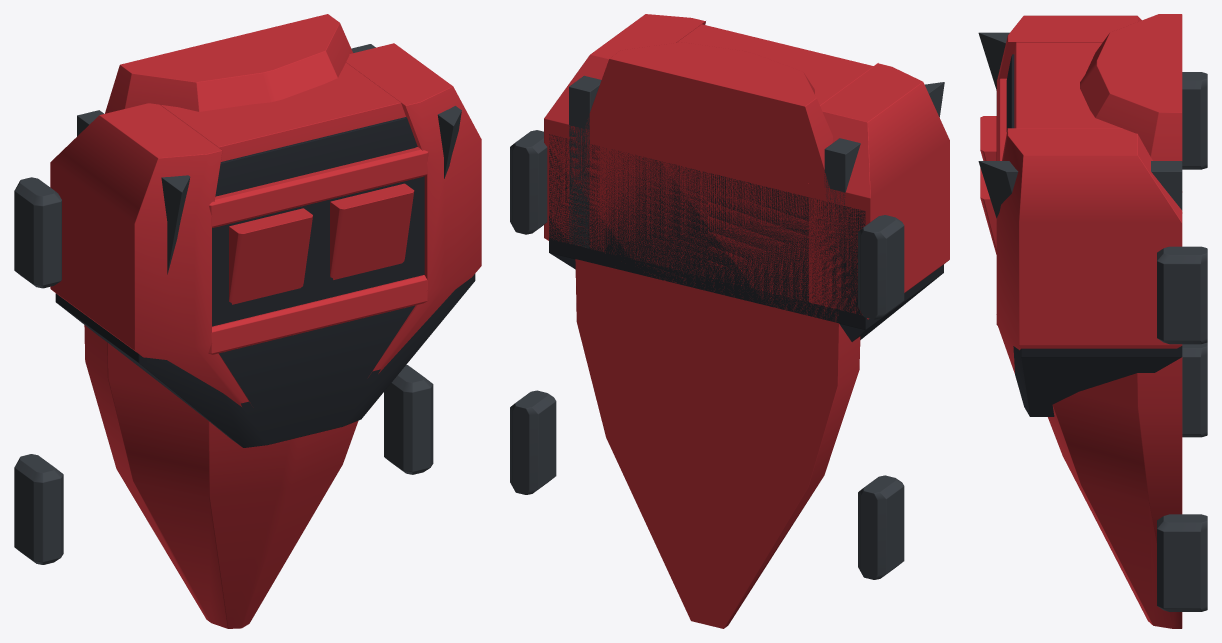
Rendered from ThighFront_Set05_Afterburn.fbx.
The picture shows the model from 3 angles, left to right: view 1: azimuth 30°, elevation 25°; view 2: azimuth 150°, elevation 25°; view 3: azimuth 270°, elevation 25°; orthographic projection. The views are drawn at different scales.
Parts seen in each view (by area): view 1: ThighFront_Set05_Afterburn; view 2: ThighFront_Set05_Afterburn; view 3: ThighFront_Set05_Afterburn.
Boxes of the visible parts, box(x1,y1,x2,y2) form: ThighFront_Set05_Afterburn: box(14, 14, 481, 628); ThighFront_Set05_Afterburn: box(510, 14, 949, 628); ThighFront_Set05_Afterburn: box(978, 14, 1207, 628).
Bounding box in the file's own units: 0.53 × 0.73 × 0.2717.
